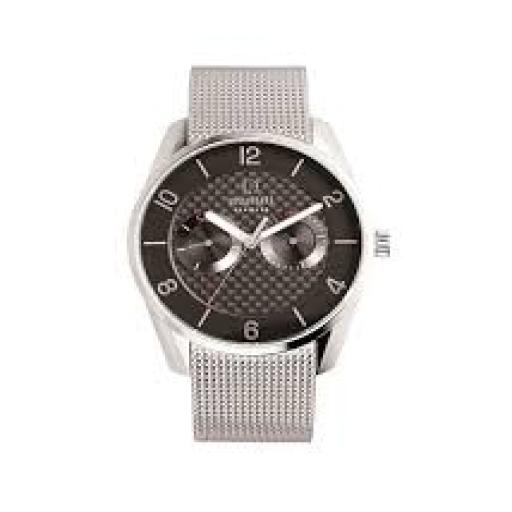KolSaati: (90, 30, 408, 470)
